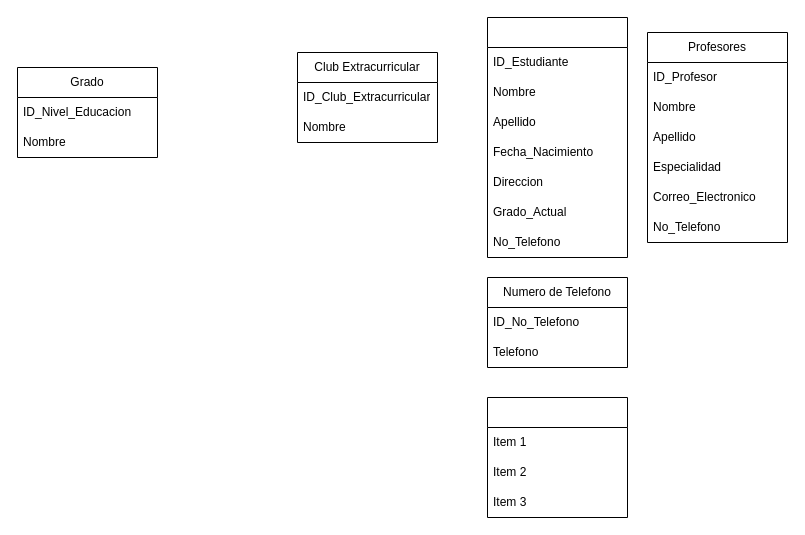
Some shapes in this 805 by 535 pixel diagram are drawn without their labels. Each missing label, with the box of its shape:
Estudiantes: (486, 16, 628, 258)
Telefonos: (486, 396, 628, 518)
